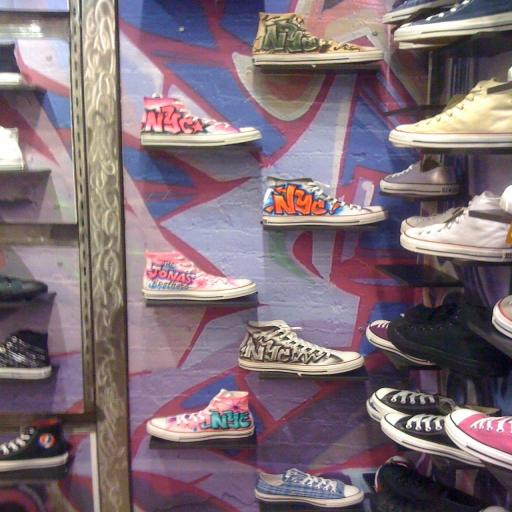shoe: (388, 302, 509, 377), (388, 78, 512, 148), (400, 191, 512, 263), (252, 12, 383, 66), (238, 320, 364, 375), (262, 177, 388, 227), (140, 95, 261, 147), (146, 389, 255, 442), (142, 251, 257, 301), (378, 461, 486, 512), (381, 412, 483, 466), (393, 0, 512, 41), (370, 477, 506, 512), (255, 468, 364, 508), (444, 408, 512, 469), (0, 420, 69, 472), (380, 156, 460, 197), (365, 320, 436, 366), (366, 388, 457, 422), (0, 330, 52, 380), (400, 206, 465, 234), (382, 0, 457, 24), (370, 490, 446, 512), (373, 455, 414, 492), (402, 296, 460, 322), (0, 275, 48, 302), (0, 126, 25, 172), (0, 42, 23, 85), (491, 295, 512, 338), (499, 186, 512, 214)
